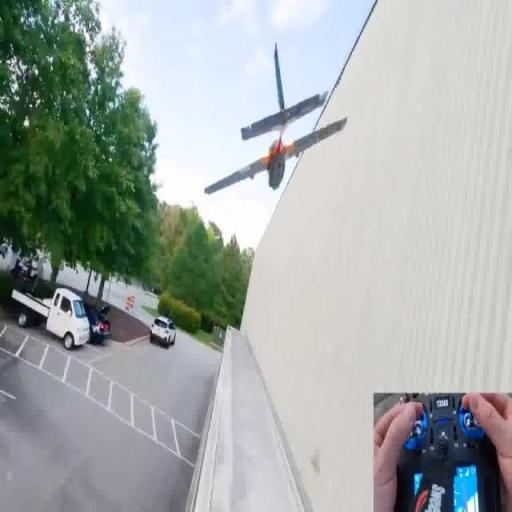uav: (202, 39, 354, 215)
